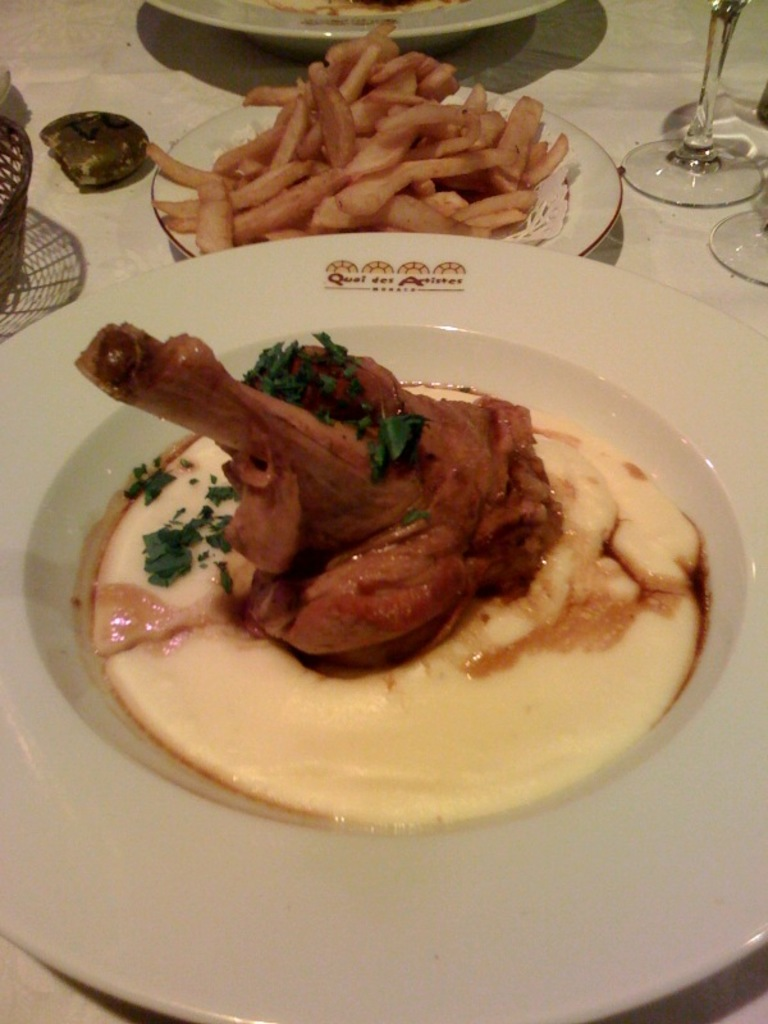French fries: (172, 20, 567, 232)
